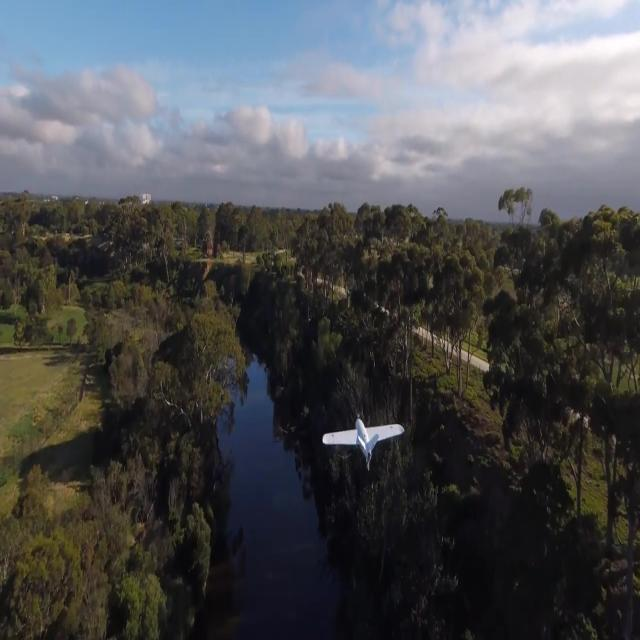iha: (354, 416, 372, 472)
